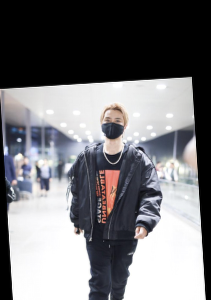with_mask: (100, 114, 124, 139)
